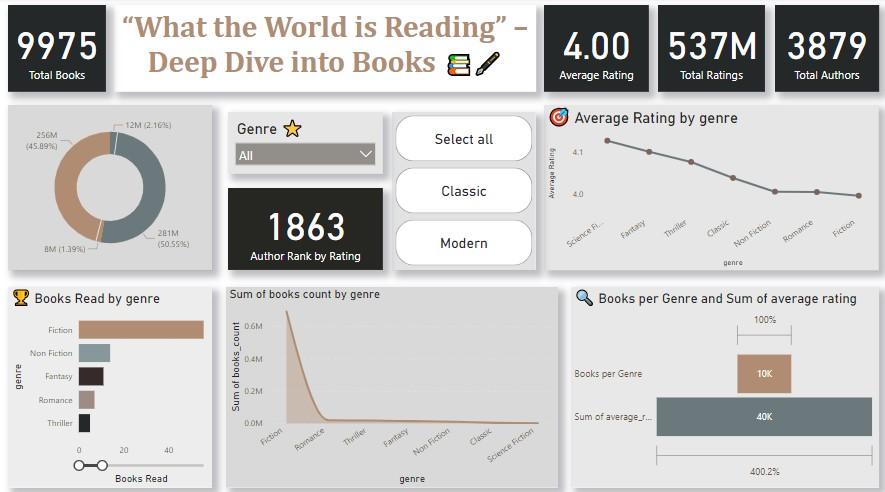

The page's visual inventory and layout, read from the dashboard file:
{"tool":"powerbi","page":{"name":"Page 1","canvas":[1280,720],"ordinal":0},"visuals":[{"type":"textbox","box":[164.2,10.1,607.7,125.3],"z":0},{"type":"card","fields":{"Values":["books_with_genre.Total Books"]},"box":[11.5,10.1,141.1,125.3],"z":1000},{"type":"card","fields":{"Values":["books_with_genre.Total Ratings"]},"box":[947.5,10.1,154.1,125.3],"z":2000},{"type":"card","fields":{"Values":["books_with_genre.Average Rating"]},"box":[783.4,10.1,151.2,125.3],"z":3000},{"type":"card","fields":{"Values":["books_with_genre.Total Authors"]},"box":[1116,10.1,149.8,125.3],"z":4000},{"type":"lineChart","title":"🎯 Average Rating by genre","fields":{"Category":["books_with_genre.genre"],"Y":["books_with_genre.Average Rating"]},"box":[783.4,154.1,482.4,237.6],"z":5000},{"type":"donutChart","fields":{"Category":["books_with_genre.Classic or Modern"],"Y":["Sum(books_with_genre.Publication_Year)","books_with_genre.Total Ratings"]},"box":[11.5,154.1,293.8,237.6],"z":6000},{"type":"stackedAreaChart","title":"Sum of books count by genre","fields":{"Category":["books_with_genre.genre"],"Y":["Sum(books_with_genre.books_count)"]},"box":[325.4,416.2,478.1,289.4],"z":7000},{"type":"slicer","fields":{"Values":["books_with_genre.genre","books_with_genre.Rating Stars"]},"box":[328.3,164.2,223.2,89.3],"z":8000},{"type":"card","fields":{"Values":["books_with_genre.Author Rank by Rating"]},"box":[328.3,273.6,223.2,118.1],"z":9000},{"type":"advancedSlicerVisual","fields":{"Values":["books_with_genre.Classic or Modern"]},"box":[564.5,164.2,207.4,227.5],"z":10000},{"type":"barChart","title":"🏆 Books Read by genre","fields":{"Category":["books_with_genre.genre"],"Y":["books_with_genre.Books Read"]},"box":[11.5,416.2,293.8,289.4],"z":11000},{"type":"funnel","title":"🔍 Books per Genre and Sum of average rating","fields":{"Y":["books_with_genre.Books per Genre","Sum(books_with_genre.average_rating)"]},"box":[822.2,416.2,443.5,289.4],"z":12000}]}

Visuals, with their boxes in screenshot pixels (x1, y1, x2, y2), scaled from the page's 1280x720 canvas onto the 885x492 screenshot:
textbox: locate(114, 7, 534, 93)
card - books_with_genre.Total Books: locate(8, 7, 106, 93)
card - books_with_genre.Total Ratings: locate(655, 7, 762, 93)
card - books_with_genre.Average Rating: locate(542, 7, 646, 93)
card - books_with_genre.Total Authors: locate(772, 7, 875, 93)
"🎯 Average Rating by genre" lineChart: locate(542, 105, 875, 268)
donutChart - books_with_genre.Classic or Modern x Sum(books_with_genre.Publication_Year): locate(8, 105, 211, 268)
"Sum of books count by genre" stackedAreaChart: locate(225, 284, 556, 482)
slicer - books_with_genre.genre x books_with_genre.Rating Stars: locate(227, 112, 381, 173)
card - books_with_genre.Author Rank by Rating: locate(227, 187, 381, 268)
advancedSlicerVisual - books_with_genre.Classic or Modern: locate(390, 112, 534, 268)
"🏆 Books Read by genre" barChart: locate(8, 284, 211, 482)
"🔍 Books per Genre and Sum of average rating" funnel: locate(568, 284, 875, 482)
